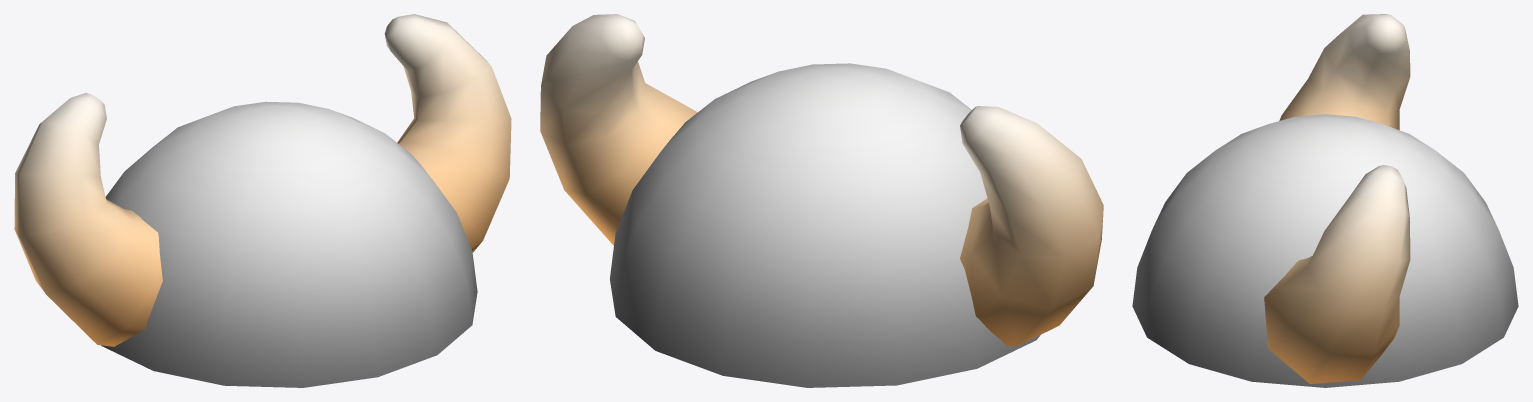
Rendered from Capsule_Head_Props_Helmet_Viking_01.fbx.
3 views of the same model, side by side, from view 1: azimuth 30°, elevation 25°; view 2: azimuth 150°, elevation 25°; view 3: azimuth 270°, elevation 25° (orthographic). The views are drawn at different scales.
Parts seen in each view (by area): view 1: Capsule_Head_Props_Helmet_Viking_01; view 2: Capsule_Head_Props_Helmet_Viking_01; view 3: Capsule_Head_Props_Helmet_Viking_01.
Part boxes in pixels (<box>): Capsule_Head_Props_Helmet_Viking_01: <box>14,14,511,387</box>; Capsule_Head_Props_Helmet_Viking_01: <box>540,14,1103,387</box>; Capsule_Head_Props_Helmet_Viking_01: <box>1132,14,1518,387</box>.
Size of the model in its own units: 153 by 70.85 by 110.
